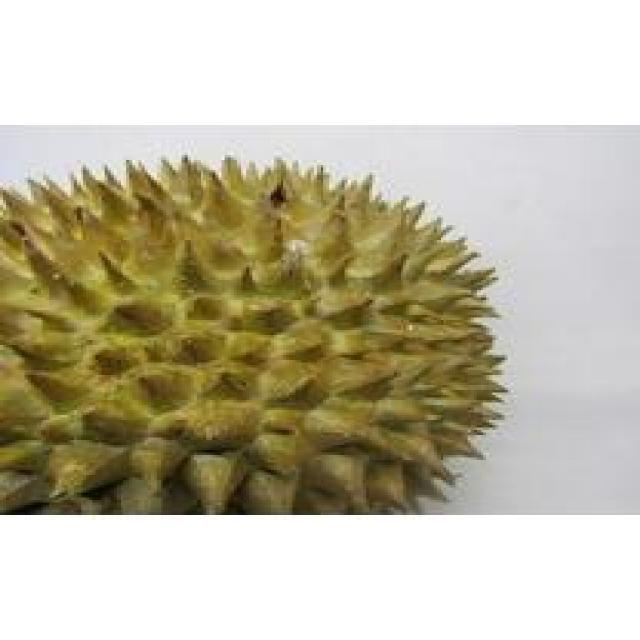fruit: (182, 130, 538, 520), (0, 110, 320, 510)
